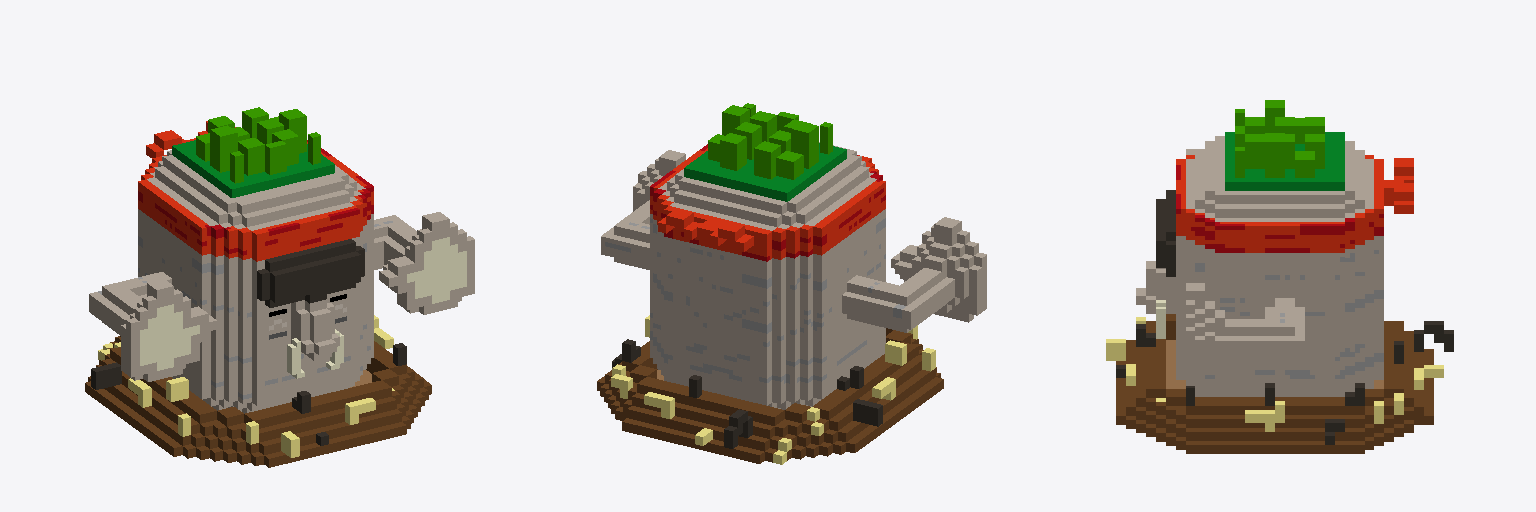
3 views of the same model, side by side, from view 1: azimuth 30°, elevation 25°; view 2: azimuth 150°, elevation 25°; view 3: azimuth 270°, elevation 25° (orthographic).
Parts seen in each view (by area): view 1: Model; view 2: Model; view 3: Model.
Part boxes in pixels (left/top/right/bottom): Model: left=85, top=107, right=474, bottom=467; Model: left=597, top=103, right=986, bottom=464; Model: left=1106, top=100, right=1453, bottom=453.
Bounding box in the file's own units: 20 × 15 × 17.5.
Materials: 1 (1 with a texture image).